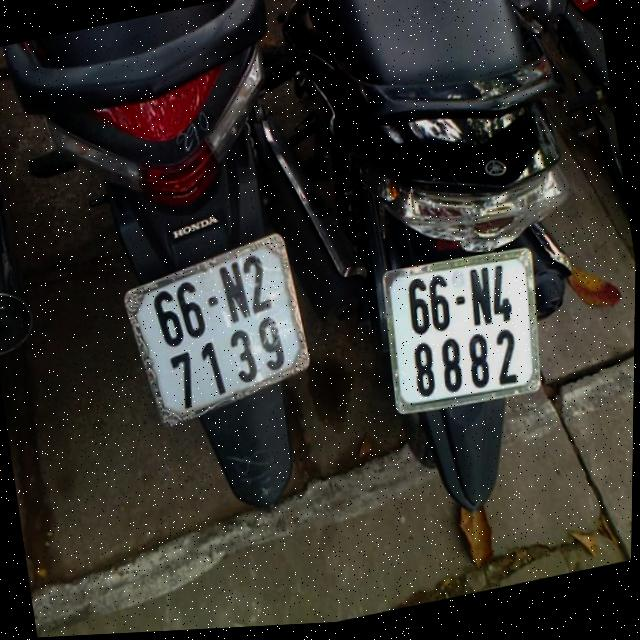motorcycle: (0, 0, 361, 552), (277, 0, 630, 549)
plate: (107, 218, 325, 440), (368, 231, 557, 431)
